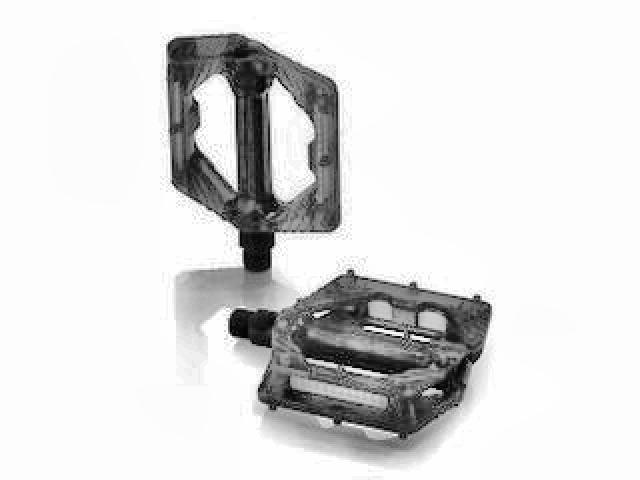pedal: (162, 33, 350, 274), (226, 267, 487, 437)
